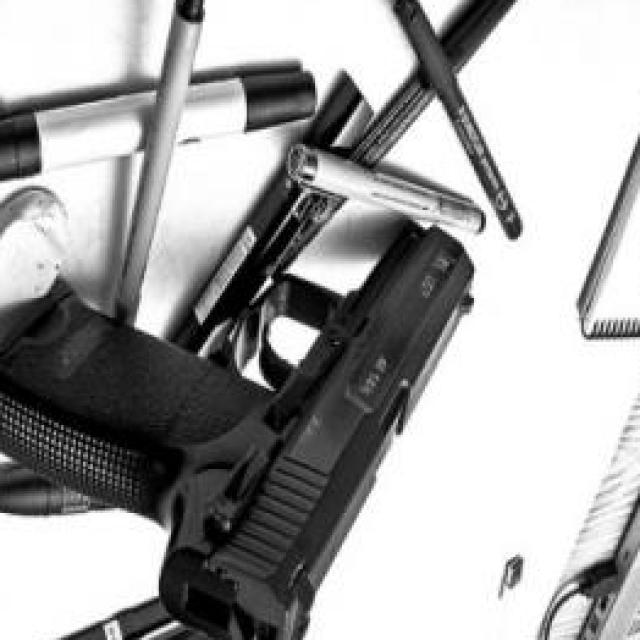pistol: (0, 217, 479, 640)
